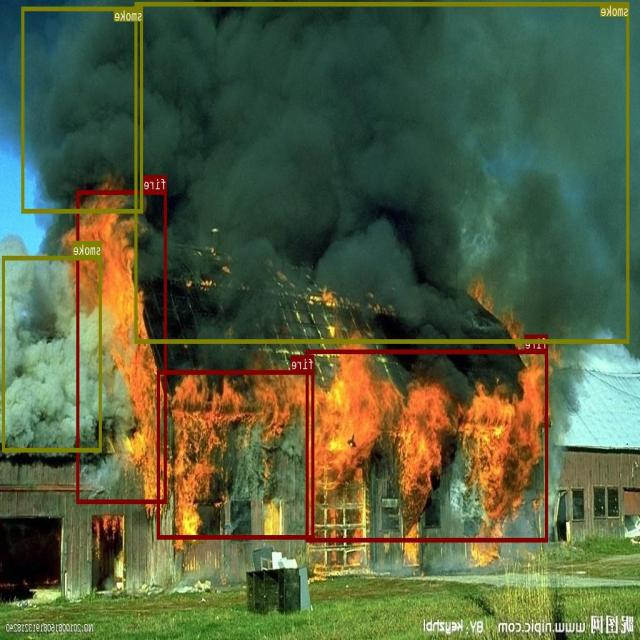fire: (306, 349, 548, 542), (77, 190, 167, 503), (158, 370, 314, 538)
smoke: (136, 2, 630, 342), (22, 6, 144, 212), (3, 255, 102, 451)
